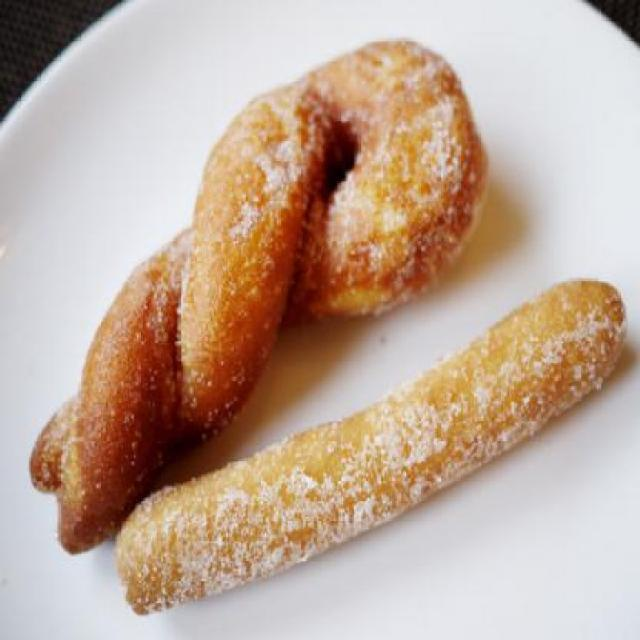Donuts: (28, 25, 640, 590)
